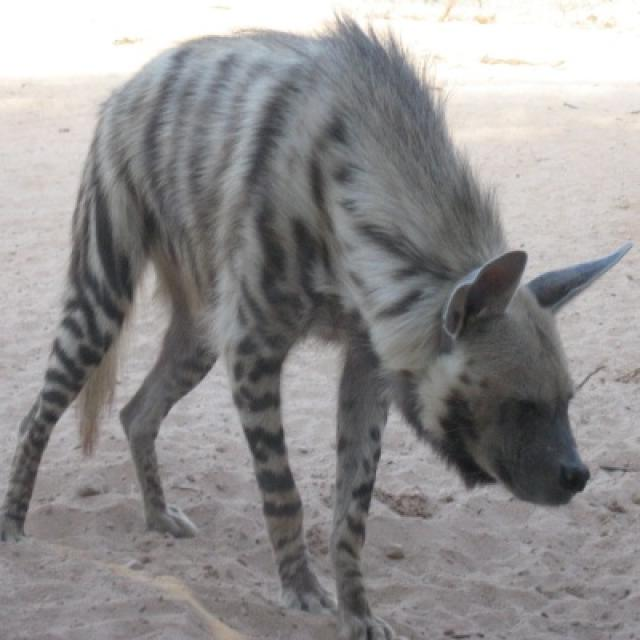hyena: (0, 18, 605, 638)
